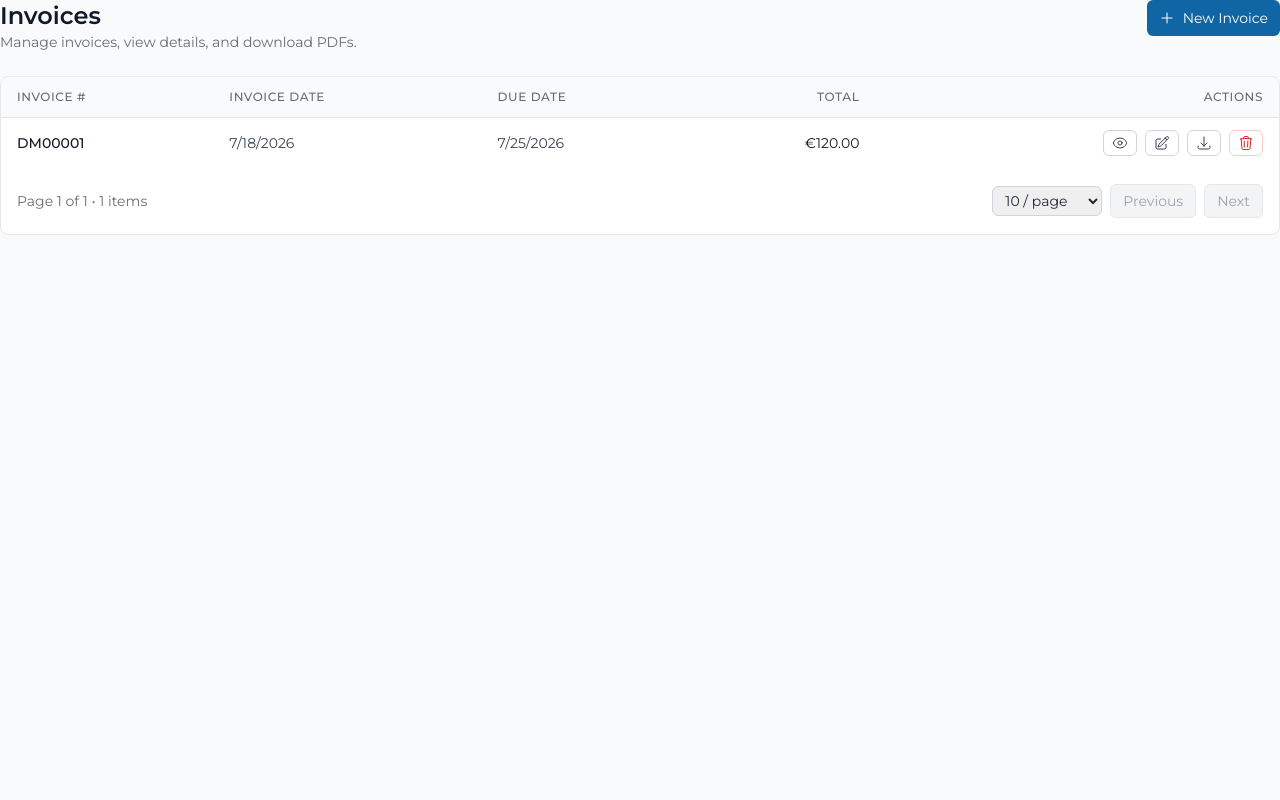
InvoicesList at wide widths (table) › does not navigate when double-clicking an action control
The width and height of the screenshot is (1280, 800).
Double-click the button titled "Delete" at (1246, 143), box [1229, 130, 1263, 156]
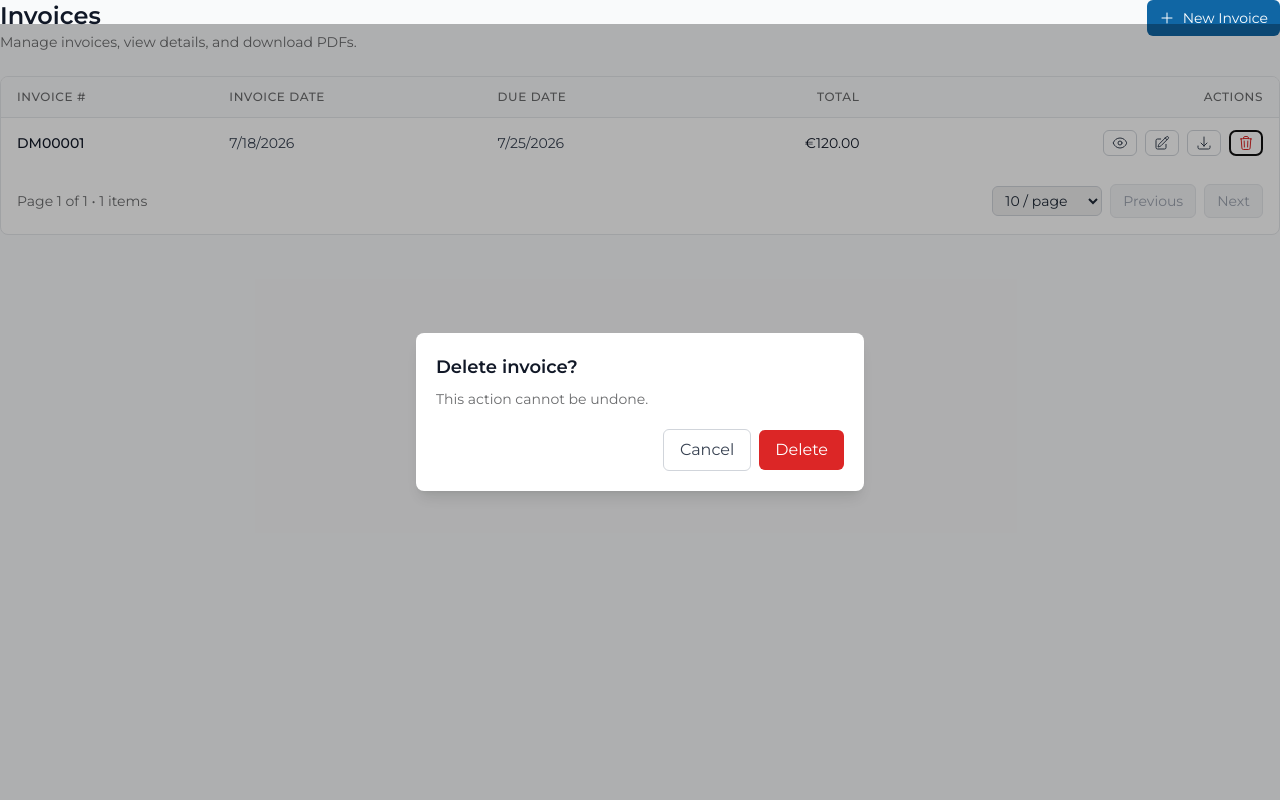
Expected: the heading "Delete invoice?" is shown, [436, 356, 578, 378]
